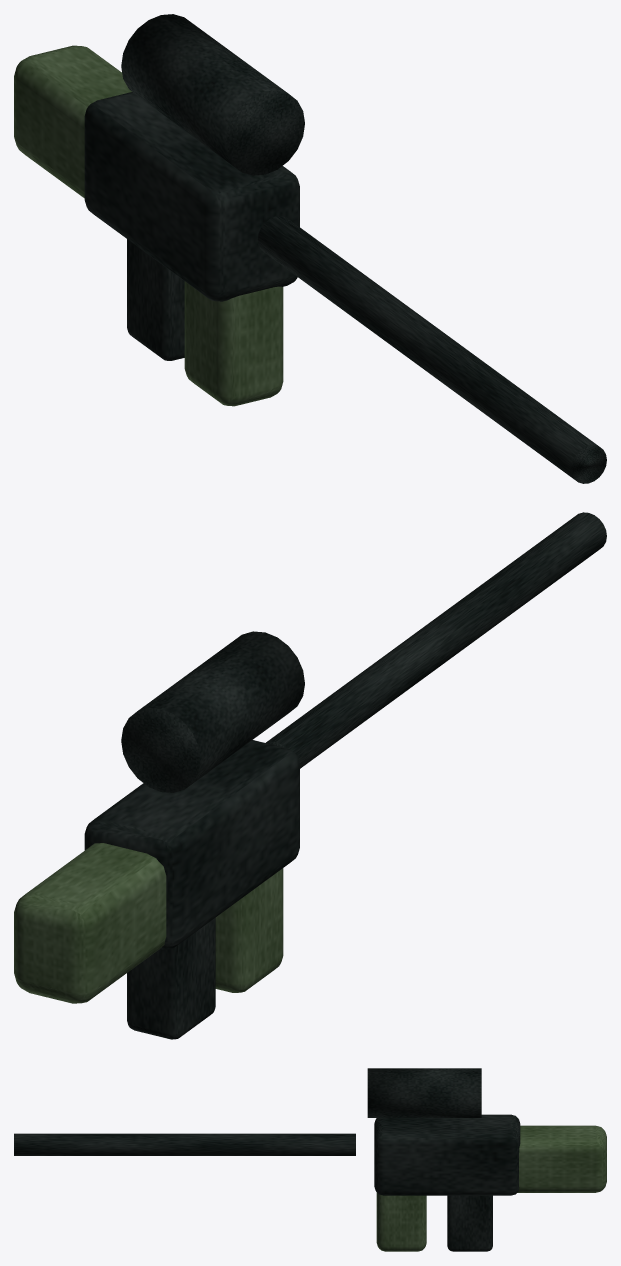
Rendered from weapon_sniper.glb.
The picture shows the model from 3 angles, top to bottom: view 1: azimuth 30°, elevation 25°; view 2: azimuth 150°, elevation 25°; view 3: azimuth 270°, elevation 25°; orthographic projection. The views are drawn at different scales.
Parts seen in each view (by area): view 1: Receiver.005, Barrel.005, Optic, Magazine.005, Stock.003, Grip.003; view 2: Receiver.005, Stock.003, Optic, Barrel.005, Grip.003, Magazine.005; view 3: Receiver.005, Barrel.005, Stock.003, Optic, Magazine.005, Grip.003.
Part boxes in pixels (box(x1,y1,x2,y2)): Receiver.005: box(84, 92, 299, 301); Barrel.005: box(257, 216, 606, 483); Optic: box(121, 14, 304, 175); Magazine.005: box(184, 281, 283, 406); Stock.003: box(14, 45, 131, 198); Grip.003: box(127, 239, 184, 360); Receiver.005: box(84, 740, 299, 949); Stock.003: box(14, 843, 166, 1003); Optic: box(121, 631, 304, 792); Barrel.005: box(266, 512, 606, 768); Grip.003: box(127, 918, 215, 1039); Magazine.005: box(215, 868, 283, 992); Receiver.005: box(374, 1114, 520, 1195); Barrel.005: box(14, 1133, 355, 1155); Stock.003: box(517, 1125, 606, 1192); Optic: box(367, 1068, 481, 1117); Magazine.005: box(376, 1192, 426, 1251); Grip.003: box(447, 1195, 492, 1251).
Bounding box in the file's own units: 0.13 × 0.425 × 1.3.
Materials: 2 (2 with a texture image).
